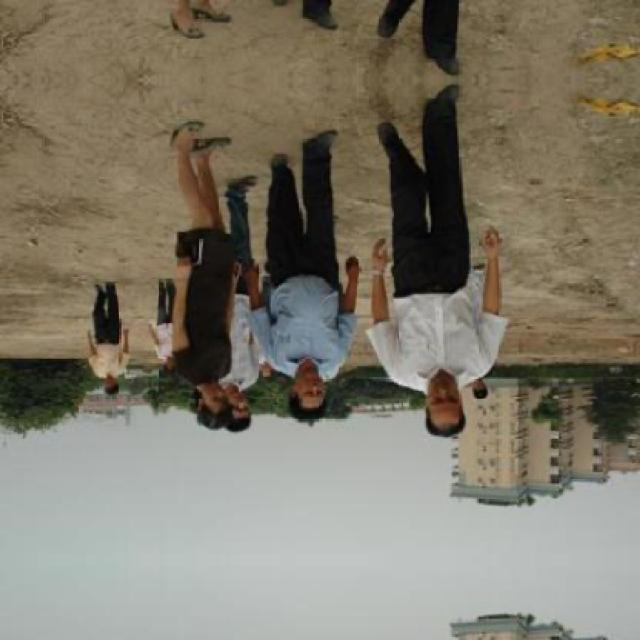sin casco: (404, 378, 476, 432), (283, 390, 341, 426), (181, 404, 249, 428), (90, 378, 132, 399)
